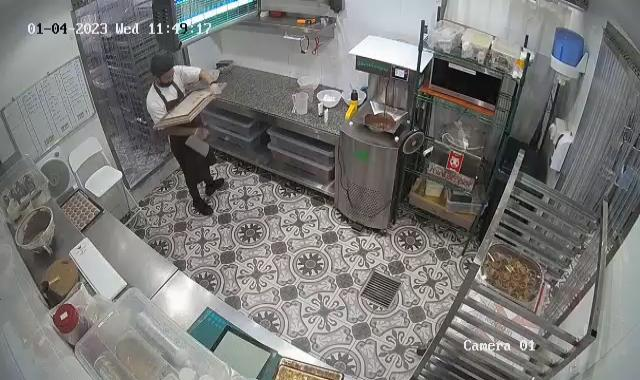no_hairnet: (149, 51, 175, 82)
